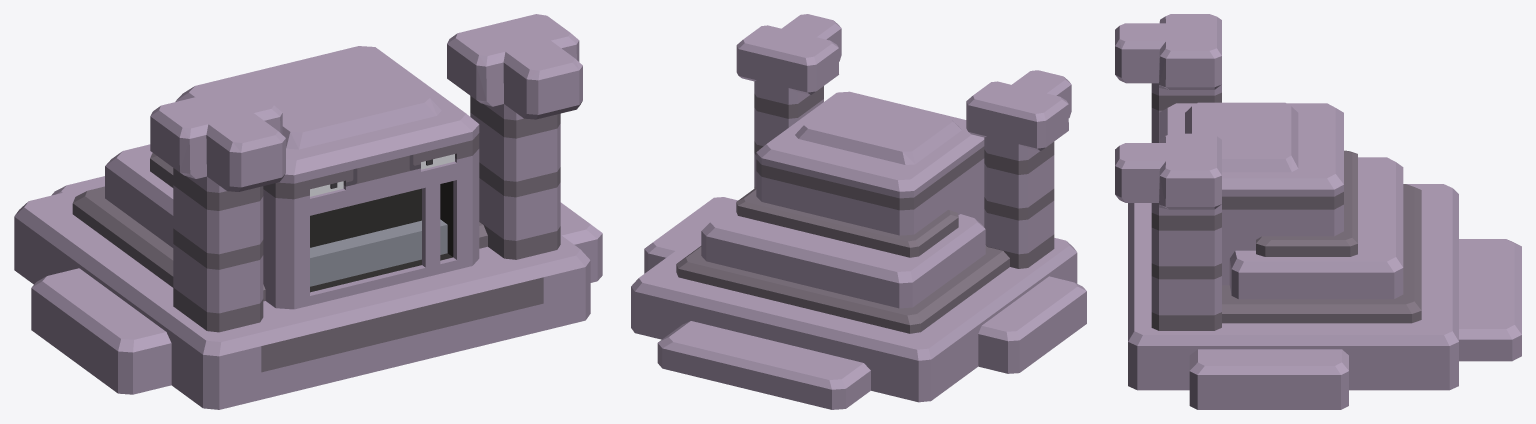
The picture shows the model from 3 angles, left to right: view 1: azimuth 30°, elevation 25°; view 2: azimuth 150°, elevation 25°; view 3: azimuth 270°, elevation 25°; orthographic projection. The views are drawn at different scales.
Parts seen in each view (by area): view 1: 0089_muk; view 2: 0089_muk; view 3: 0089_muk.
Boxes of the visible parts, x1,y1,x2,y2 form: 0089_muk: (14, 14, 602, 409); 0089_muk: (631, 14, 1086, 409); 0089_muk: (1115, 14, 1521, 409).
Bounding box in the file's own units: 4.04 × 2.12 × 3.55.
Materials: 1 (1 with a texture image).
